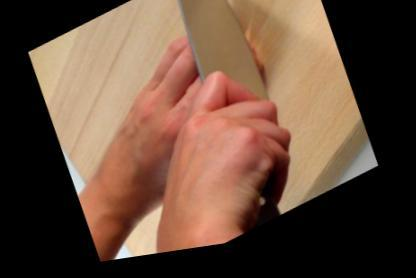knife: (143, 0, 305, 211)
